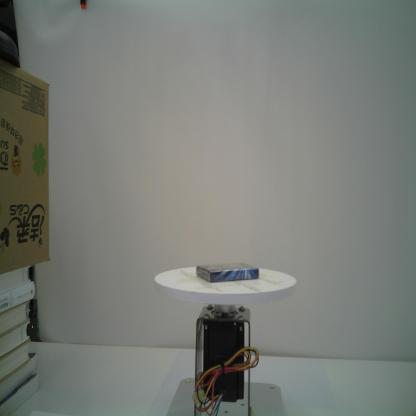Gum: (194, 260, 260, 284)
